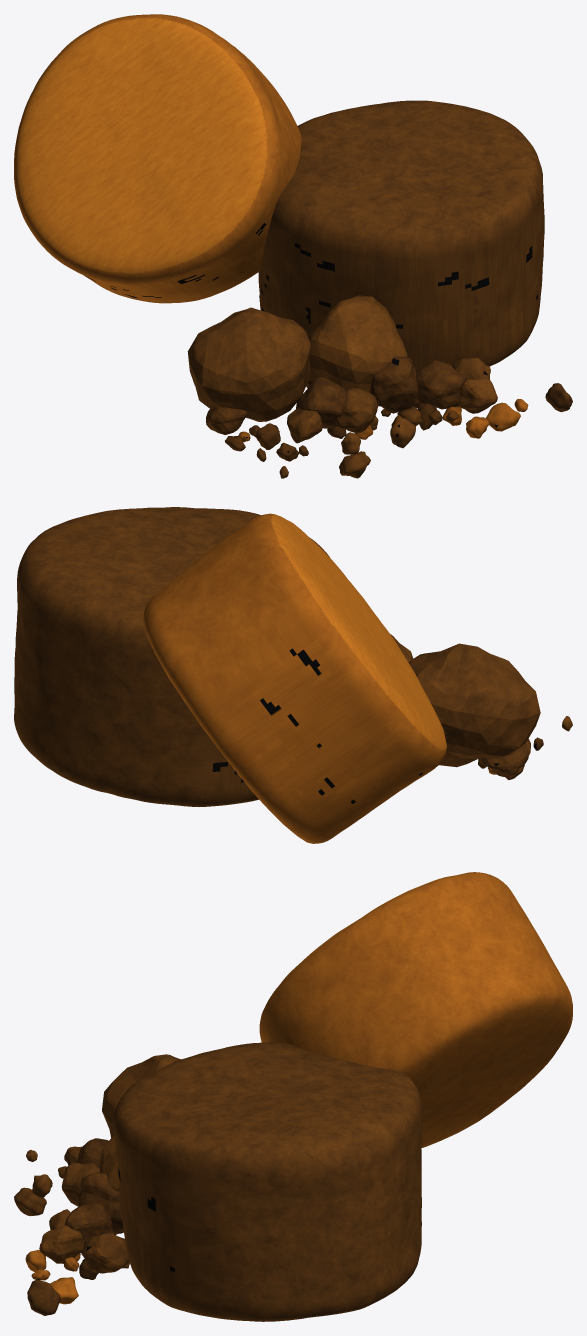
File: gula_aren.glb
3 views of the same model, one above another, from view 1: azimuth 30°, elevation 25°; view 2: azimuth 150°, elevation 25°; view 3: azimuth 270°, elevation 25° (orthographic). The views are drawn at different scales.
Visible parts, largest first — view 1: Gula_Jawa_Aren; view 2: Gula_Jawa_Aren; view 3: Gula_Jawa_Aren.
Boxes of the visible parts, left/top/right/bottom form: Gula_Jawa_Aren: left=14, top=14, right=572, bottom=478; Gula_Jawa_Aren: left=14, top=507, right=572, bottom=843; Gula_Jawa_Aren: left=14, top=872, right=572, bottom=1321.
Size of the model in its own units: 3.6 by 2.6 by 3.89.
Materials: 1 (1 with a texture image).
